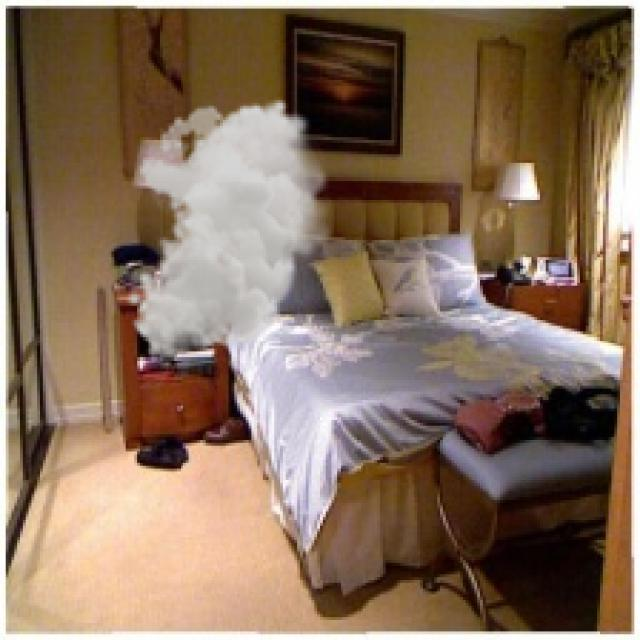Smoke: (126, 97, 337, 360)
